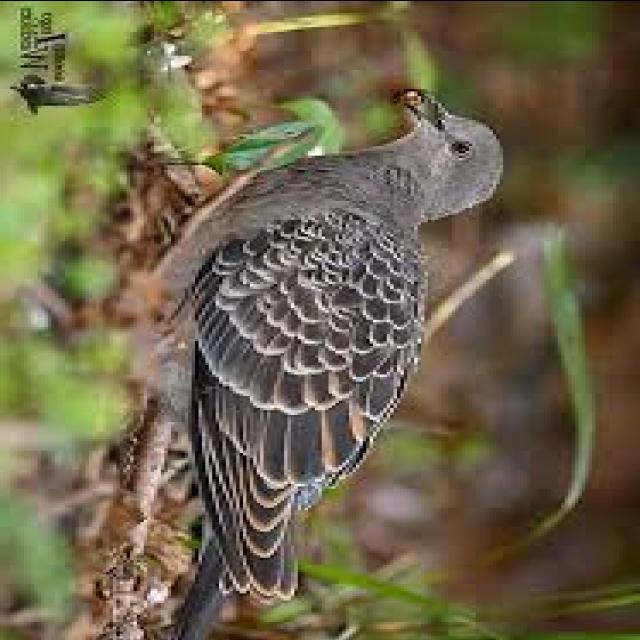pigeon: (104, 90, 526, 616)
